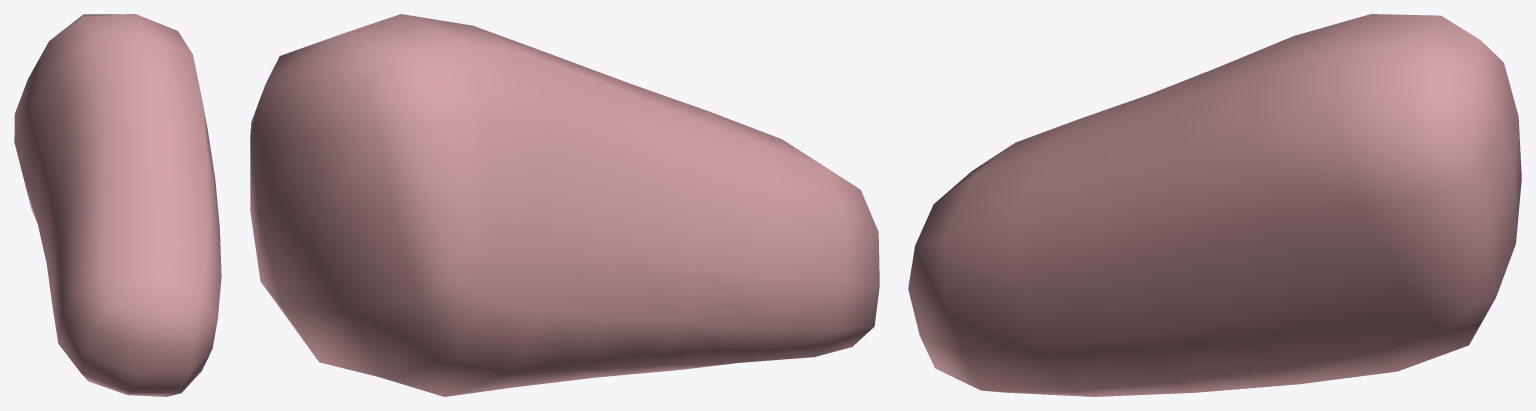
3 renders of one model, left to right at view 1: azimuth 30°, elevation 25°; view 2: azimuth 150°, elevation 25°; view 3: azimuth 270°, elevation 25°, orthographic. The views are drawn at different scales.
Visible parts, largest first — view 1: ZA_fefa76fc2e3ed4cc; view 2: ZA_fefa76fc2e3ed4cc; view 3: ZA_fefa76fc2e3ed4cc.
Part boxes in pixels (x1,y1,x2,y2): ZA_fefa76fc2e3ed4cc: [14, 14, 221, 396]; ZA_fefa76fc2e3ed4cc: [250, 14, 879, 396]; ZA_fefa76fc2e3ed4cc: [908, 14, 1521, 396].
Size of the model in its own units: 0.00832 by 0.00864 by 0.0117.
